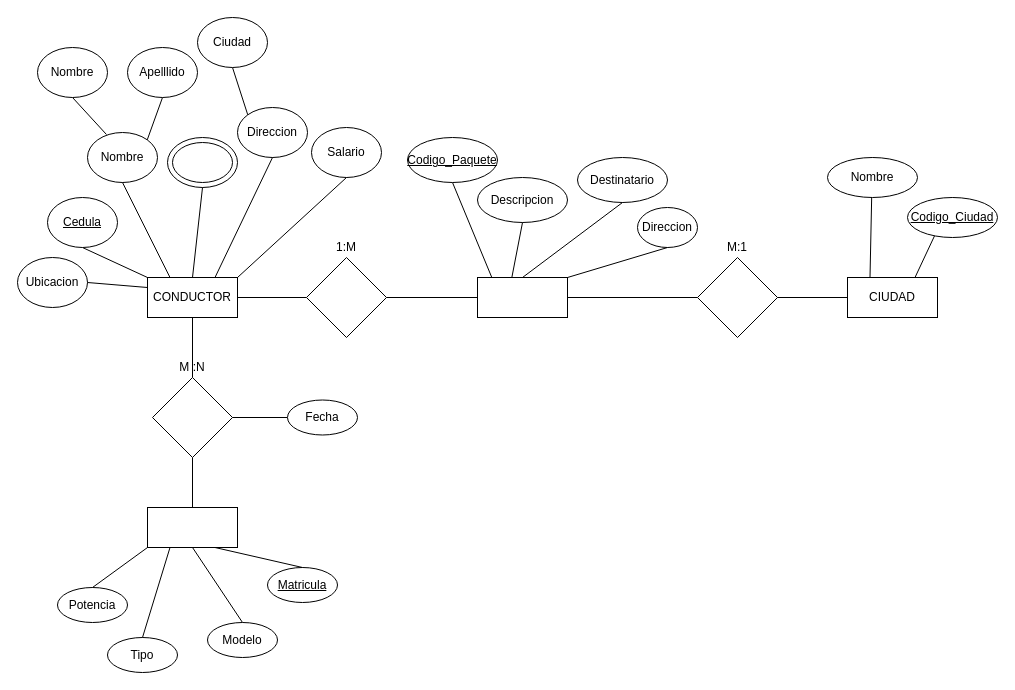
Image size: 1015x690. Some labels were removed from this diagram. Here are the shapes that lost their labels. From the top down, the centre of each, then its label:
At (x=202, y=162): "Telefono".
At (x=346, y=297): "Distribuir".
At (x=522, y=297): "PAQUETE".
At (x=737, y=297): "Llegar".
At (x=192, y=417): "Conducir".
At (x=192, y=527): "CAMION".
